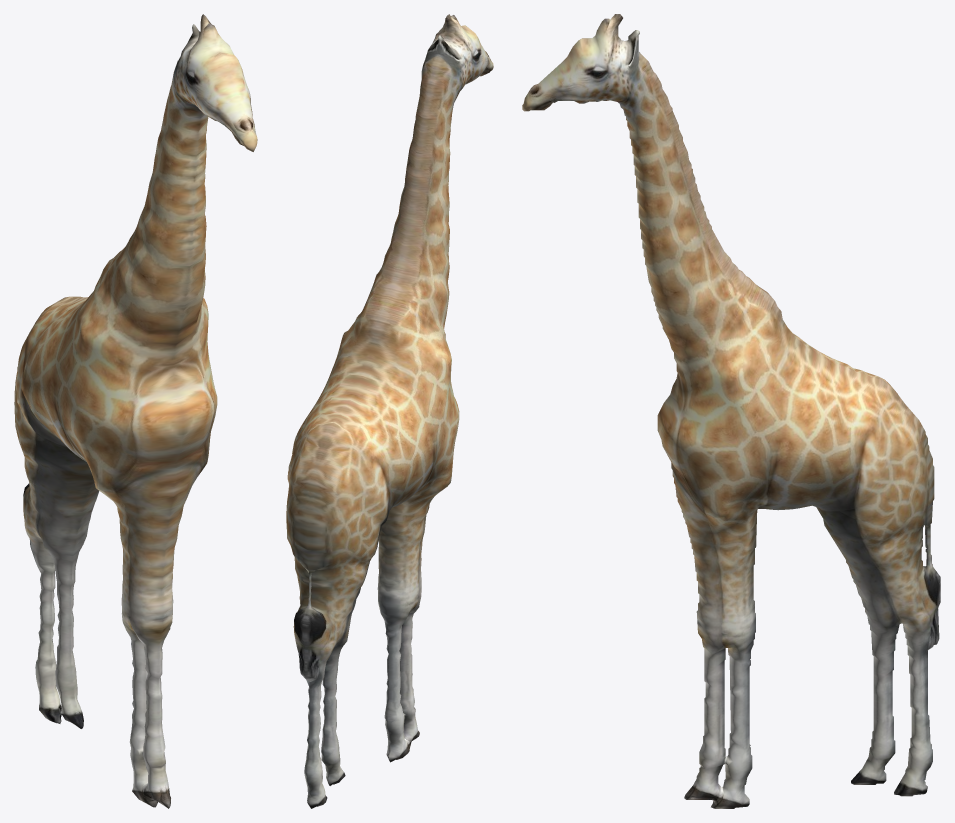
Rendered from girafe.glb.
3 views of the same model, side by side, from view 1: azimuth 30°, elevation 25°; view 2: azimuth 150°, elevation 25°; view 3: azimuth 270°, elevation 25° (orthographic). The views are drawn at different scales.
Visible parts, largest first — view 1: girafe; view 2: girafe; view 3: girafe.
Part boxes in pixels (bbox=[...]): girafe: bbox=[14, 14, 257, 808]; girafe: bbox=[286, 14, 493, 808]; girafe: bbox=[522, 14, 940, 808].
Size of the model in its own units: 0.8412 by 5 by 2.38.
1 material, 1 textured.
